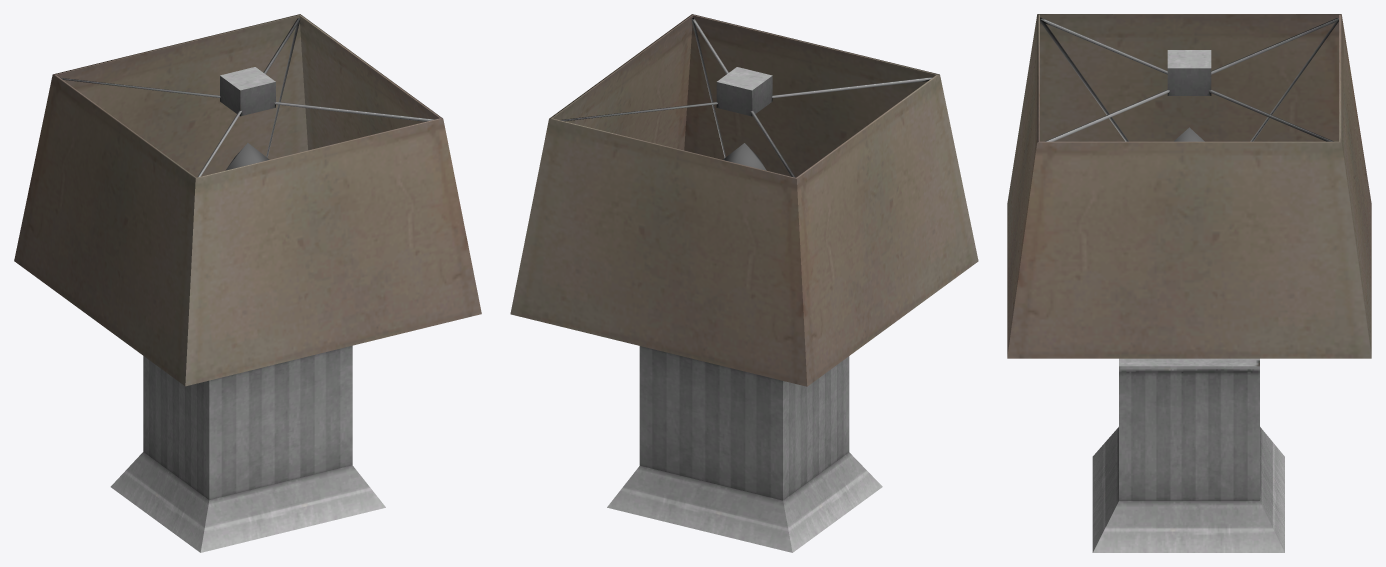
File: furniture_lamp_table2_1_off_lod1.glb
3 views of the same model, side by side, from view 1: azimuth 30°, elevation 25°; view 2: azimuth 150°, elevation 25°; view 3: azimuth 270°, elevation 25° (orthographic). The views are drawn at different scales.
Parts seen in each view (by area): view 1: surf0; view 2: surf0; view 3: surf0.
Part boxes in pixels (<box>): surf0: <box>14,14,481,552</box>; surf0: <box>510,14,978,552</box>; surf0: <box>1007,14,1371,552</box>.
Bounding box in the file's own units: 16.32 × 22 × 16.32.
